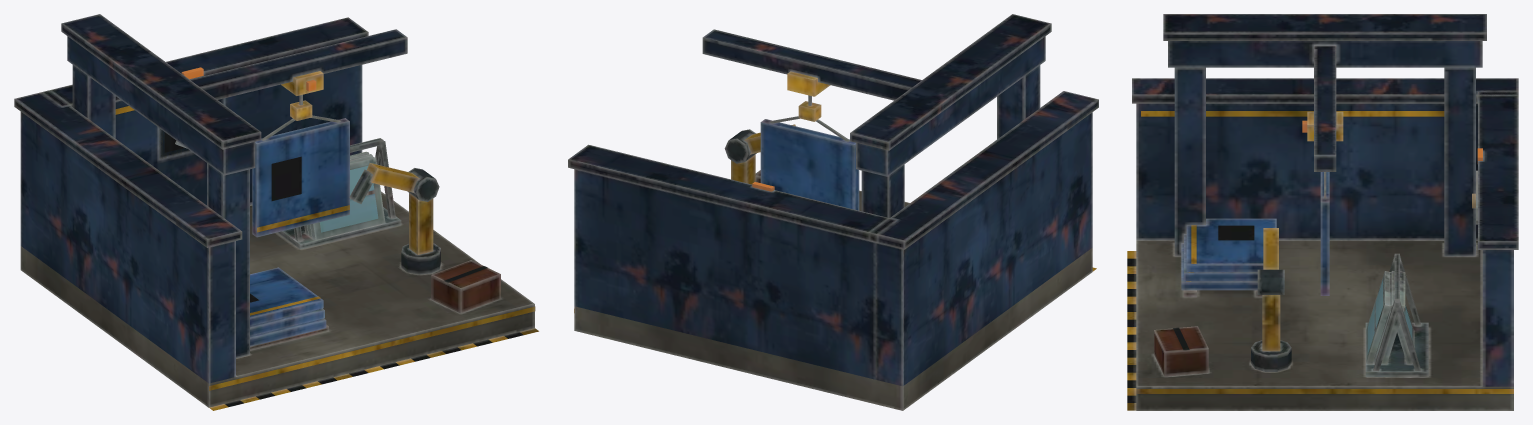
The model's file is housing_factory.glb.
3 views of the same model, side by side, from view 1: azimuth 30°, elevation 25°; view 2: azimuth 150°, elevation 25°; view 3: azimuth 270°, elevation 25° (orthographic).
Parts seen in each view (by area): view 1: te_housing_factory; view 2: te_housing_factory; view 3: te_housing_factory.
Part boxes in pixels (<box>): te_housing_factory: <box>14,14,538,410</box>; te_housing_factory: <box>568,14,1098,410</box>; te_housing_factory: <box>1127,14,1518,410</box>.
Bounding box in the file's own units: 0.86 × 0.615 × 0.87.
Materials: 1 (1 with a texture image).
